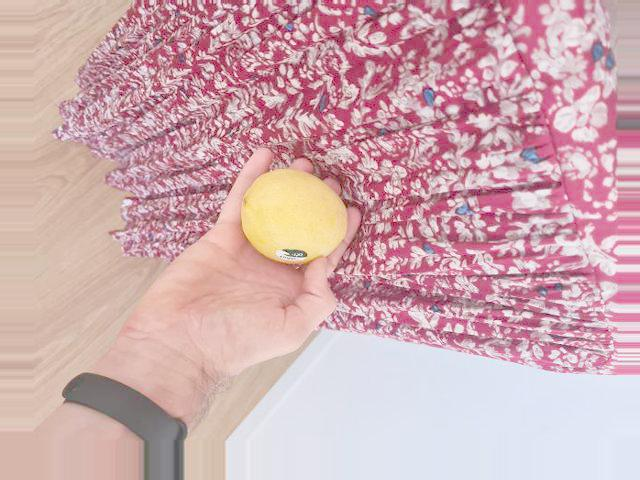lemon: (243, 173, 347, 266)
